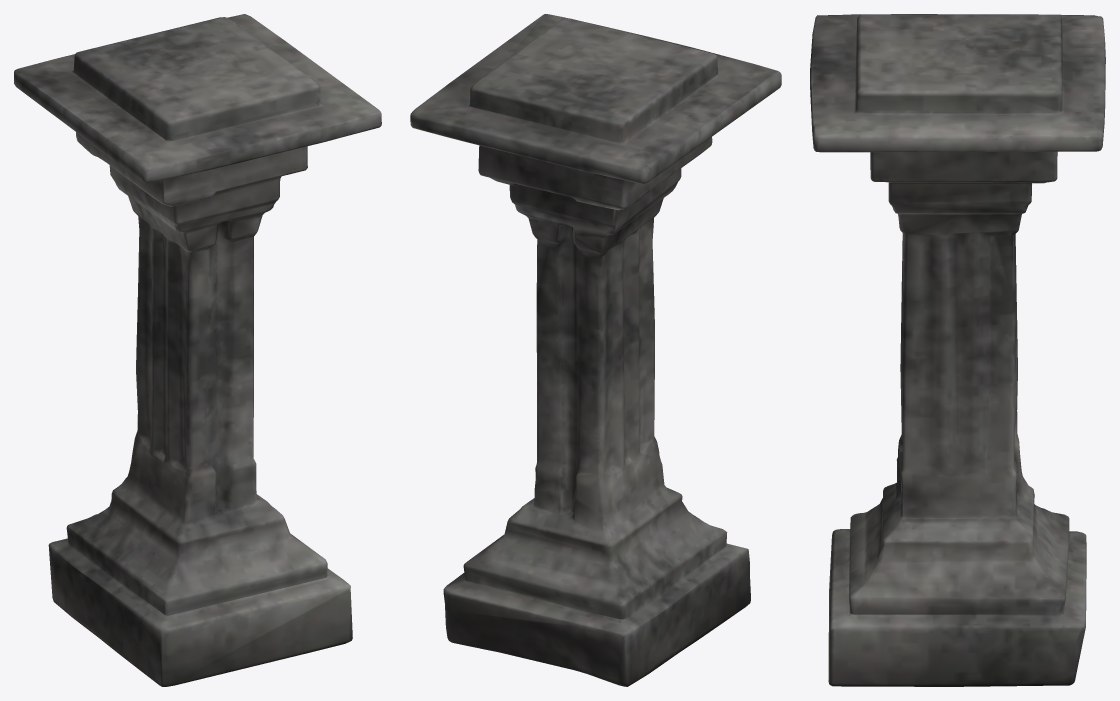
Rendered from sturdy-granite-balustrade-v001.glb.
The picture shows the model from 3 angles, left to right: view 1: azimuth 30°, elevation 25°; view 2: azimuth 150°, elevation 25°; view 3: azimuth 270°, elevation 25°; orthographic projection. The views are drawn at different scales.
Visible parts, largest first — view 1: sturdy-granite-balustrade; view 2: sturdy-granite-balustrade; view 3: sturdy-granite-balustrade.
Part boxes in pixels (x1=…): sturdy-granite-balustrade: x1=14, y1=14, x2=381, y2=686; sturdy-granite-balustrade: x1=410, y1=14, x2=781, y2=686; sturdy-granite-balustrade: x1=810, y1=14, x2=1105, y2=686.
Size of the model in its own units: 0.4716 by 1.05 by 0.478.
1 material, 1 textured.
